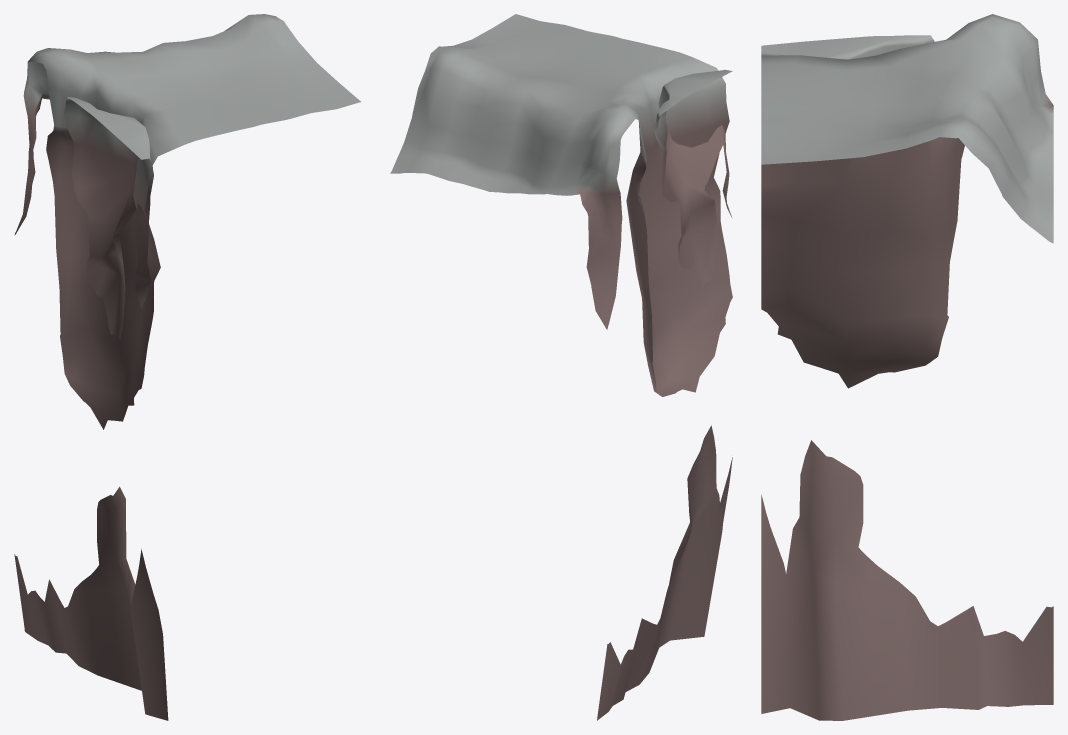
3 renders of one model, left to right at view 1: azimuth 30°, elevation 25°; view 2: azimuth 150°, elevation 25°; view 3: azimuth 270°, elevation 25°, orthographic. The views are drawn at different scales.
Parts seen in each view (by area): view 1: G:\FFXIV-MapTools\exports\u5f1\bg\ex4\04_uvs_u5\fld\u5f1\bgp (×9); view 2: G:\FFXIV-MapTools\exports\u5f1\bg\ex4\04_uvs_u5\fld\u5f1\bgp (×11); view 3: G:\FFXIV-MapTools\exports\u5f1\bg\ex4\04_uvs_u5\fld\u5f1\bgp (×10).
Boxes of the visible parts, <box> form: G:\FFXIV-MapTools\exports\u5f1\bg\ex4\04_uvs_u5\fld\u5f1\bgp (×9): <box>14,14,360,720</box>; G:\FFXIV-MapTools\exports\u5f1\bg\ex4\04_uvs_u5\fld\u5f1\bgp (×11): <box>392,14,732,720</box>; G:\FFXIV-MapTools\exports\u5f1\bg\ex4\04_uvs_u5\fld\u5f1\bgp (×10): <box>761,14,1053,720</box>.
Size of the model in its own units: 128 by 333 by 128.
